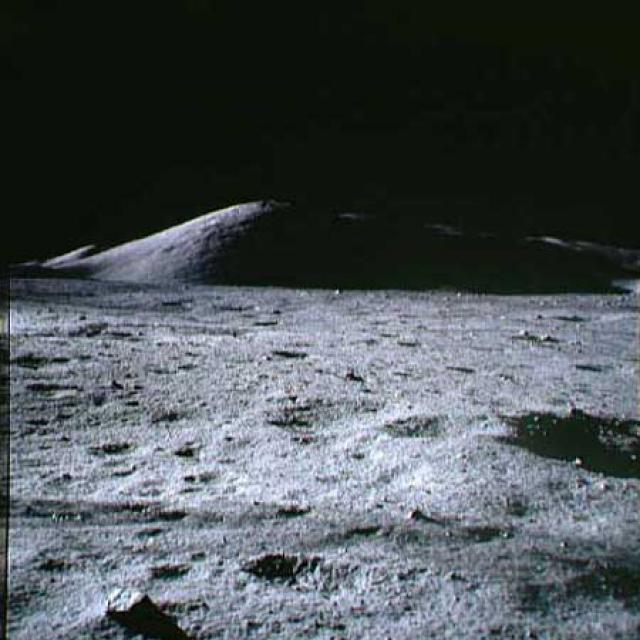crater: (514, 411, 638, 479), (250, 387, 389, 429), (380, 409, 508, 441), (10, 351, 85, 372), (23, 378, 82, 402)
rock: (102, 581, 156, 623)
